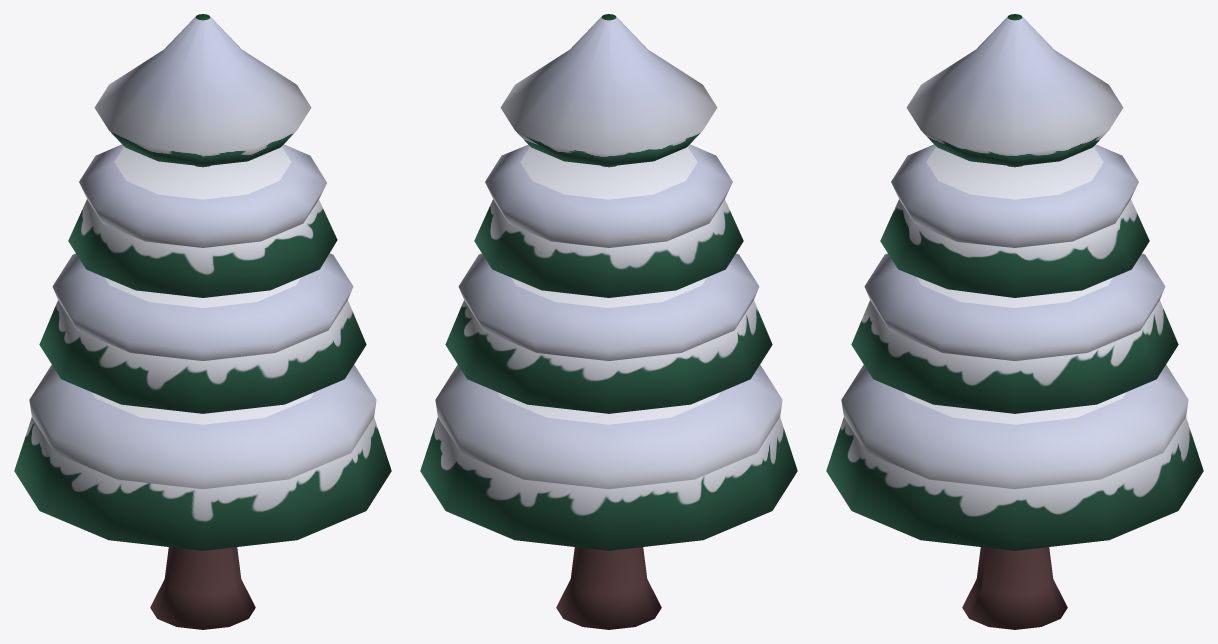
File: icytree.fbx
3 renders of one model, left to right at view 1: azimuth 30°, elevation 25°; view 2: azimuth 150°, elevation 25°; view 3: azimuth 270°, elevation 25°, orthographic.
Parts seen in each view (by area): view 1: Cylinder.003; view 2: Cylinder.003; view 3: Cylinder.003.
Part boxes in pixels (bbox=[...]): Cylinder.003: bbox=[14, 14, 391, 629]; Cylinder.003: bbox=[420, 14, 797, 629]; Cylinder.003: bbox=[826, 14, 1203, 629].
Size of the model in its own units: 1113 by 1920 by 1113.
